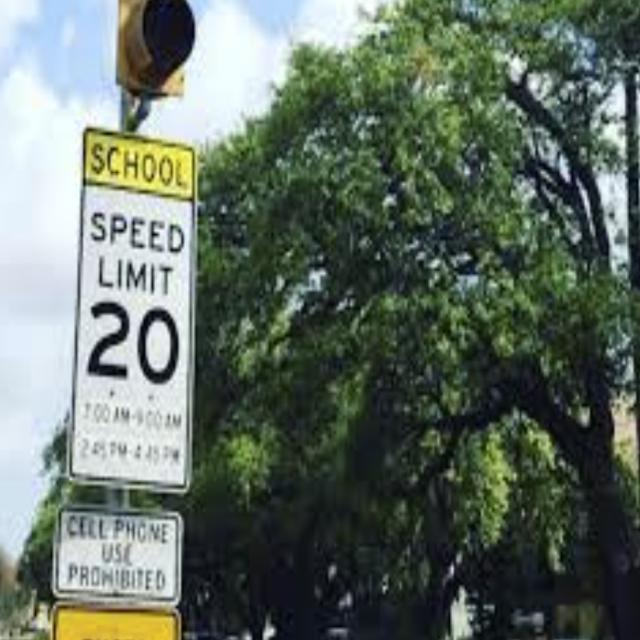speedLimit20: (80, 205, 190, 394)
